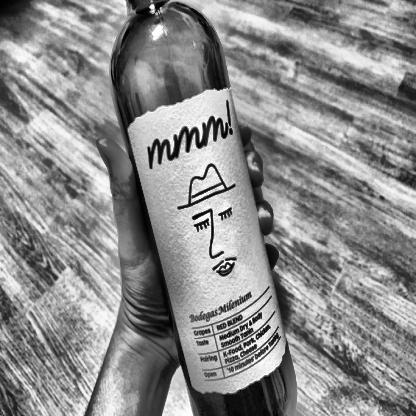umm: (126, 84, 289, 401)
